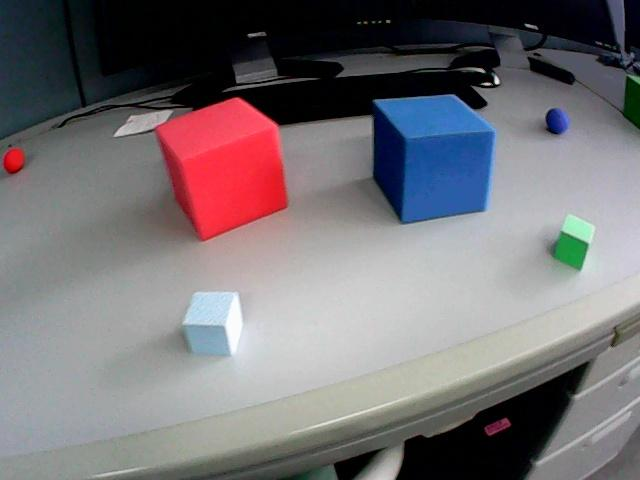blue_block: (373, 95, 495, 222), (182, 292, 242, 354), (285, 465, 337, 479)
red_block: (155, 98, 286, 239)
